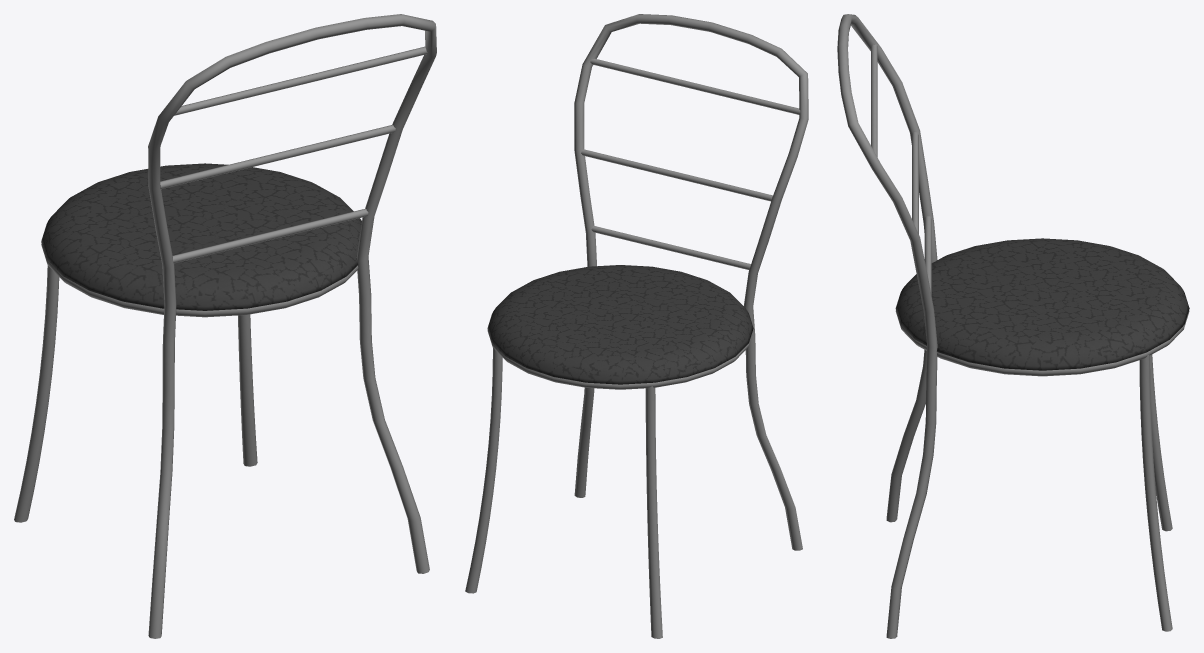
The model's file is Chair_Static.DAE.
3 views of the same model, side by side, from view 1: azimuth 30°, elevation 25°; view 2: azimuth 150°, elevation 25°; view 3: azimuth 270°, elevation 25° (orthographic). The views are drawn at different scales.
Parts seen in each view (by area): view 1: Chair; view 2: Chair; view 3: Chair.
Boxes of the visible parts, bbox=[...] form: Chair: bbox=[14, 14, 436, 638]; Chair: bbox=[465, 14, 808, 638]; Chair: bbox=[837, 14, 1189, 638].
Size of the model in its own units: 15.86 by 31.82 by 19.
